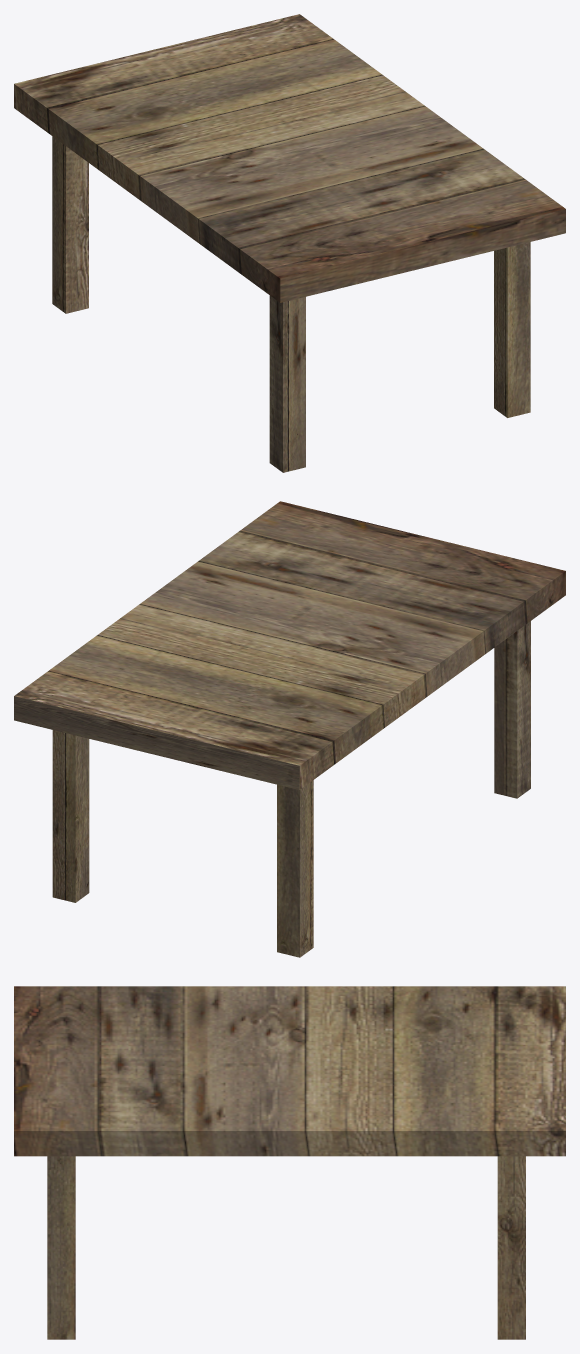
The model's file is table_rect.dae.
3 renders of one model, top to bottom at view 1: azimuth 30°, elevation 25°; view 2: azimuth 150°, elevation 25°; view 3: azimuth 270°, elevation 25°, orthographic. The views are drawn at different scales.
Parts seen in each view (by area): view 1: table_rectangle-Pivot; view 2: table_rectangle-Pivot; view 3: table_rectangle-Pivot.
Part boxes in pixels (x1=…): table_rectangle-Pivot: x1=14, y1=14, x2=565, y2=472; table_rectangle-Pivot: x1=14, y1=501, x2=565, y2=957; table_rectangle-Pivot: x1=14, y1=986, x2=565, y2=1339.
Size of the model in its own units: 2.95 by 4.76 by 2.08.
